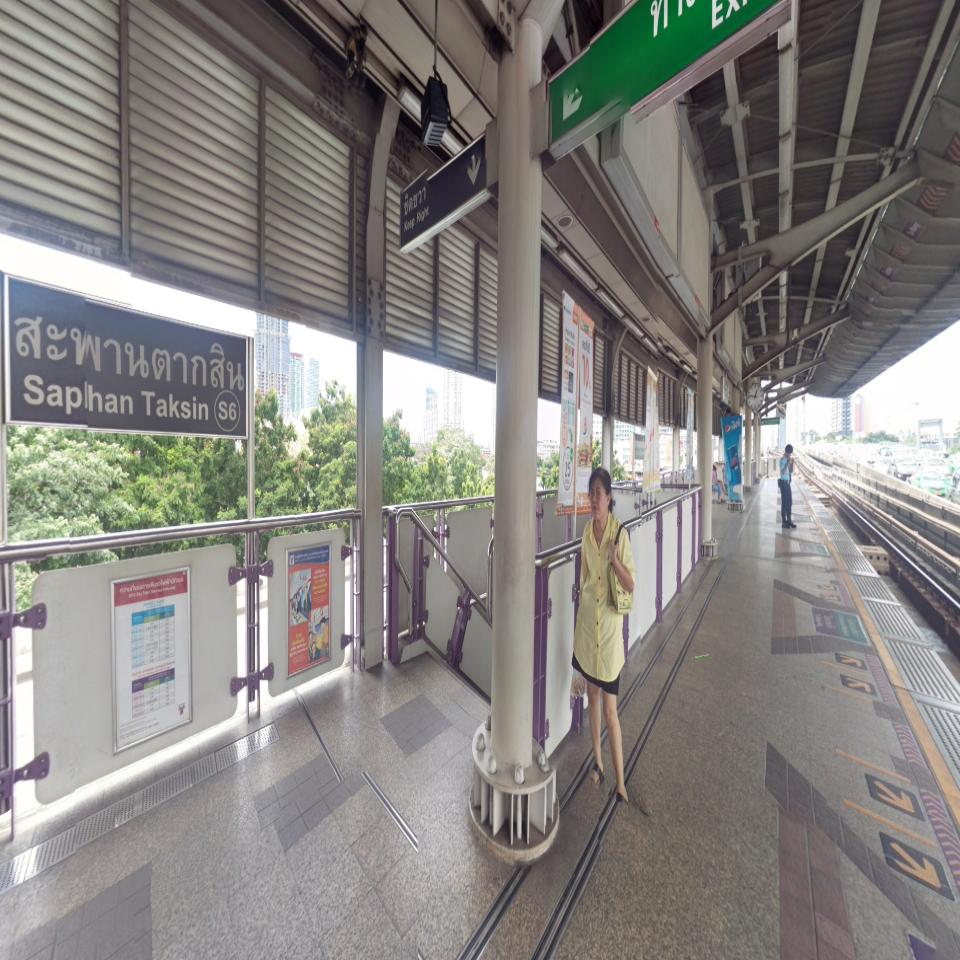signage: (1, 271, 250, 442)
